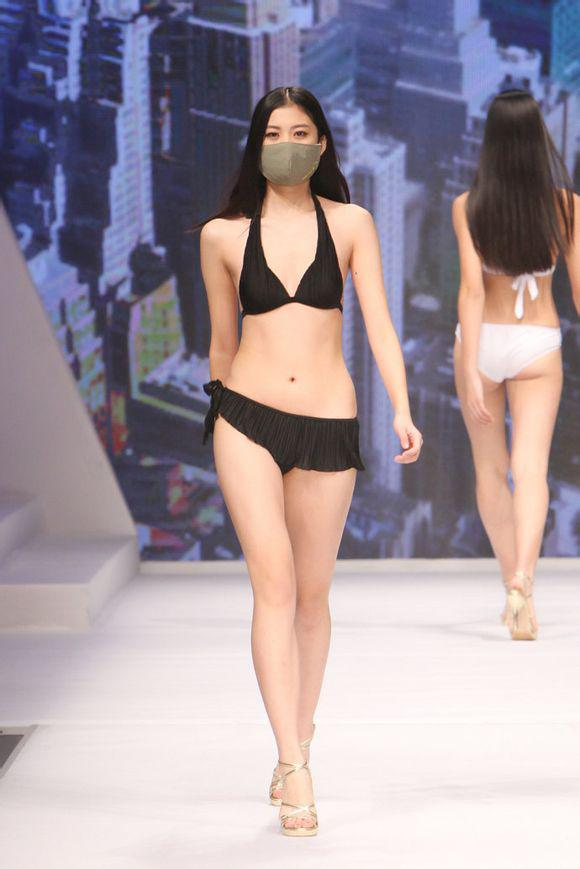OK: (256, 119, 321, 184)
